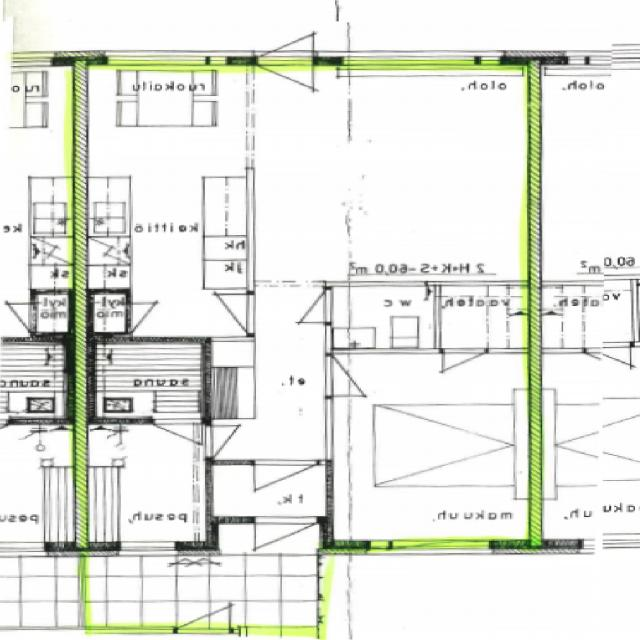door: (253, 460, 319, 513), (255, 517, 317, 571), (258, 9, 315, 66), (258, 50, 315, 107), (189, 293, 254, 334), (325, 356, 391, 396), (151, 417, 203, 462), (178, 592, 230, 636), (277, 288, 334, 323), (205, 425, 260, 458), (442, 348, 486, 386)
